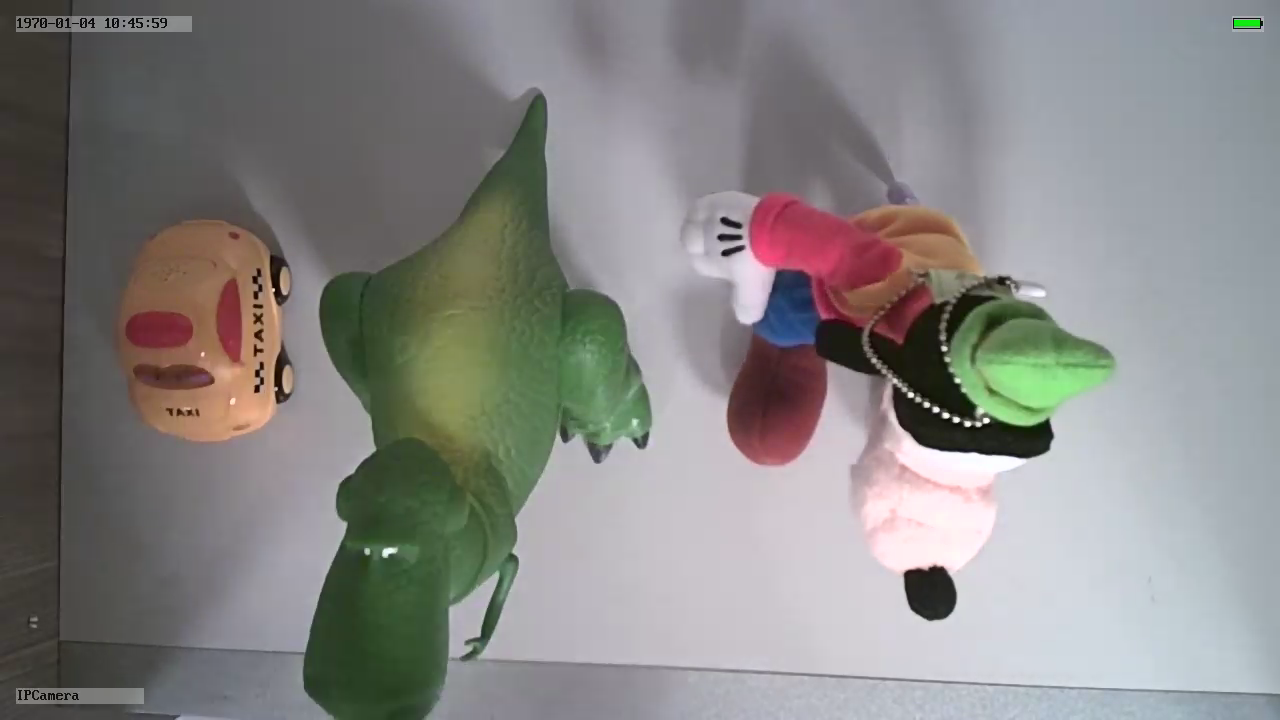goofy: (675, 185, 1120, 629)
